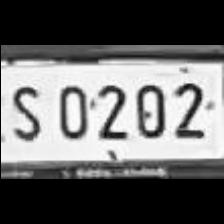0: (49, 78, 89, 140), (129, 78, 167, 138)
2: (88, 78, 130, 140), (167, 76, 207, 140)
S: (4, 80, 44, 142)
